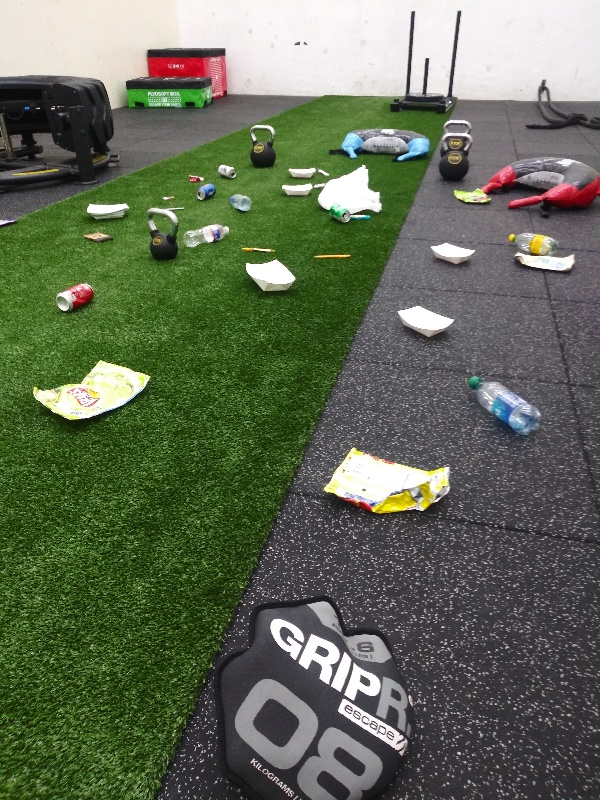bag: (318, 444, 453, 520), (24, 357, 151, 424), (510, 247, 580, 275), (449, 187, 497, 207)
bottle: (467, 372, 544, 438), (178, 221, 234, 251), (505, 231, 560, 254), (223, 190, 253, 212)
can: (53, 282, 97, 317), (325, 200, 353, 225), (192, 181, 222, 203), (211, 162, 238, 180)
plate: (389, 301, 457, 344), (239, 256, 300, 294), (428, 238, 477, 268), (81, 200, 131, 224), (275, 180, 315, 199), (286, 161, 317, 180)
